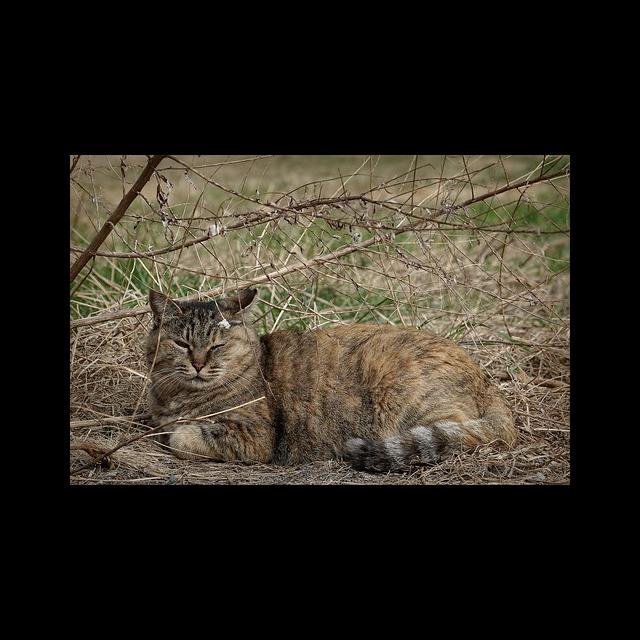animals: (147, 286, 515, 471)
